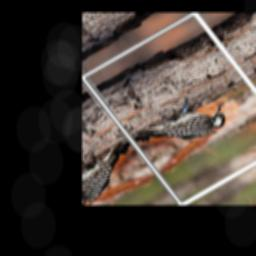Woodpecker: (123, 78, 240, 170)
